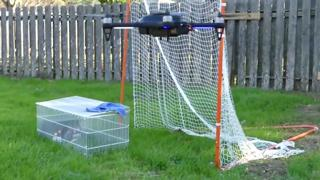UAV: (84, 9, 248, 44)
